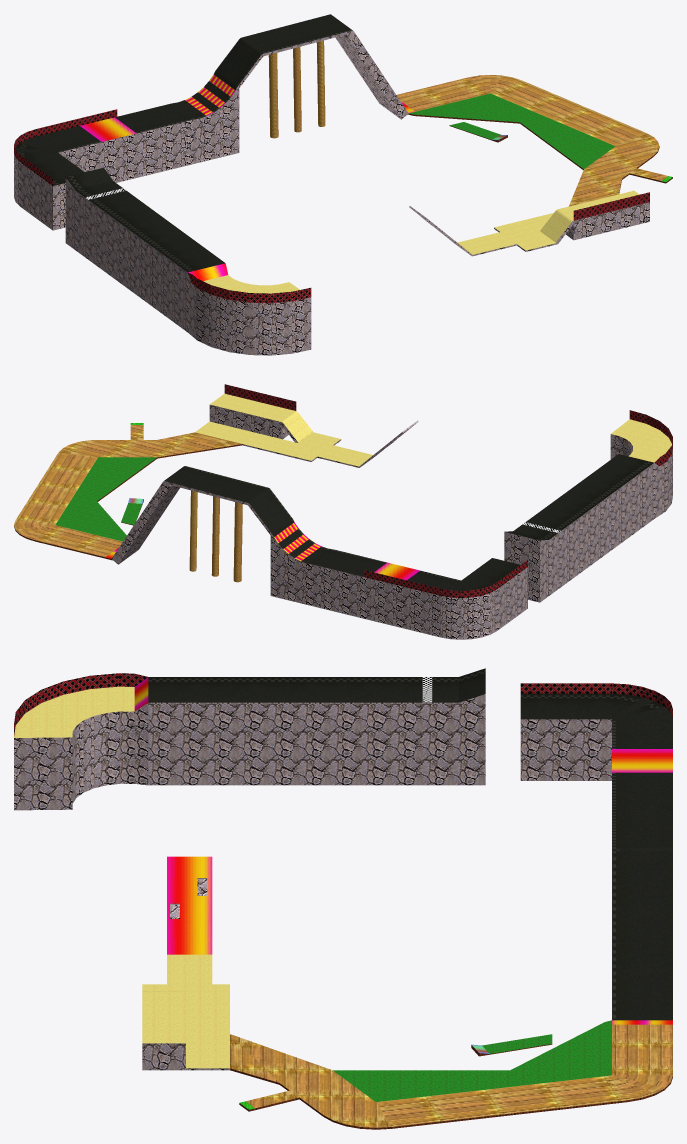
The picture shows the model from 3 angles, top to bottom: view 1: azimuth 30°, elevation 25°; view 2: azimuth 150°, elevation 25°; view 3: azimuth 270°, elevation 25°; orthographic projection. The views are drawn at different scales.
Parts seen in each view (by area): view 1: ct4_Main-wall0, ct4_Main-road0, ct4_Main-road3, ct4_Main-grass, ct4_Main-road4, ct4_Main-fence_wall, ct4_Main-wall2, ct4_Main-trickpad1, ct4_Main-boostpanel1, ct4_Main-boostpanel3, ct4_Main-wall3; view 2: ct4_Main-wall0, ct4_Main-road0, ct4_Main-road3, ct4_Main-road4, ct4_Main-grass, ct4_Main-fence_wall, ct4_Main-wall2, ct4_Main-trickpad1, ct4_Main-boostpanel3, ct4_Main-wall3, ct4_Main-boostpanel1; view 3: ct4_Main-wall0, ct4_Main-road0, ct4_Main-road3, ct4_Main-road4, ct4_Main-grass, ct4_Main-boostpanel2, ct4_Main-fence_wall, ct4_Main-boostpanel1, ct4_Main-wall3, ct4_Main-trickpad1.
Boxes of the visible parts, left/top/right/bottom form: ct4_Main-wall0: left=14, top=30, right=649, bottom=355; ct4_Main-road0: left=15, top=14, right=352, bottom=272; ct4_Main-road3: left=396, top=75, right=667, bottom=206; ct4_Main-grass: left=409, top=93, right=615, bottom=168; ct4_Main-road4: left=203, top=190, right=639, bottom=293; ct4_Main-fence_wall: left=14, top=109, right=649, bottom=303; ct4_Main-wall2: left=268, top=40, right=325, bottom=138; ct4_Main-trickpad1: left=66, top=39, right=260, bottom=190; ct4_Main-boostpanel1: left=80, top=117, right=136, bottom=141; ct4_Main-boostpanel3: left=185, top=74, right=235, bottom=115; ct4_Main-wall3: left=408, top=113, right=672, bottom=193; ct4_Main-wall0: left=111, top=404, right=672, bottom=639; ct4_Main-road0: left=164, top=454, right=653, bottom=590; ct4_Main-road3: left=14, top=425, right=241, bottom=557; ct4_Main-road4: left=195, top=393, right=671, bottom=466; ct4_Main-grass: left=55, top=457, right=156, bottom=541; ct4_Main-fence_wall: left=224, top=384, right=672, bottom=597; ct4_Main-wall2: left=189, top=490, right=242, bottom=582; ct4_Main-trickpad1: left=250, top=489, right=548, bottom=540; ct4_Main-boostpanel3: left=274, top=522, right=321, bottom=561; ct4_Main-wall3: left=14, top=444, right=242, bottom=560; ct4_Main-boostpanel1: left=374, top=562, right=419, bottom=580; ct4_Main-wall0: left=14, top=694, right=611, bottom=1070; ct4_Main-road0: left=148, top=677, right=672, bottom=1020; ct4_Main-road3: left=230, top=1024, right=672, bottom=1127; ct4_Main-road4: left=14, top=686, right=229, bottom=1068; ct4_Main-grass: left=333, top=1020, right=611, bottom=1101; ct4_Main-boostpanel2: left=167, top=867, right=212, bottom=954; ct4_Main-fence_wall: left=14, top=673, right=672, bottom=736; ct4_Main-boostpanel1: left=612, top=749, right=672, bottom=772; ct4_Main-wall3: left=230, top=1044, right=672, bottom=1129; ct4_Main-trickpad1: left=459, top=668, right=485, bottom=702.
Size of what is drawn, in the model's own units: 57079 by 10055 by 42876.
Materials: 19 (19 with a texture image).
